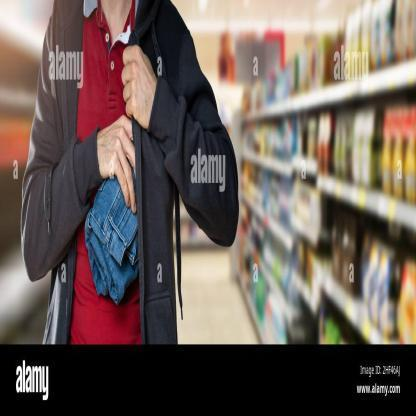Shoplifting: (71, 34, 195, 341)
